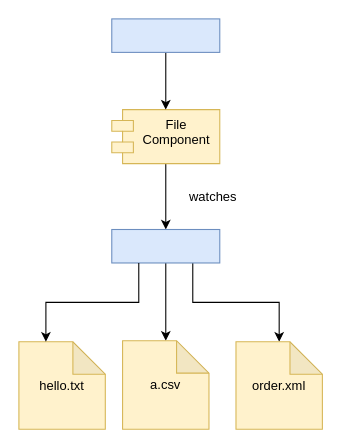
The diagram is 341 pixels wide and 448 high, and some of its shapes have lost their labels. The centre of each missing label's shape, as x and y in pixels:
"from( ... )" belongs at (165,35).
"inpu/" belongs at (165,245).
